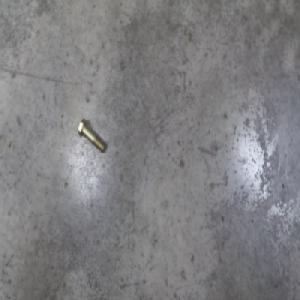Bolt: (76, 118, 105, 155)
